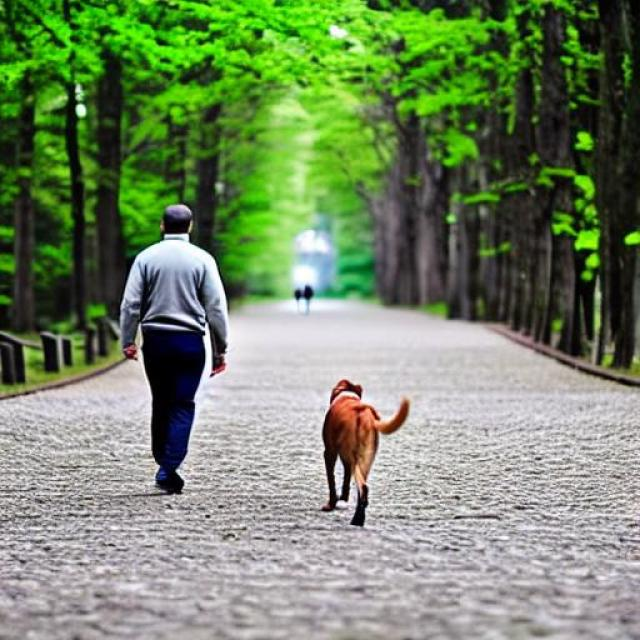Unleashed_Dog: (144, 330, 410, 528)
